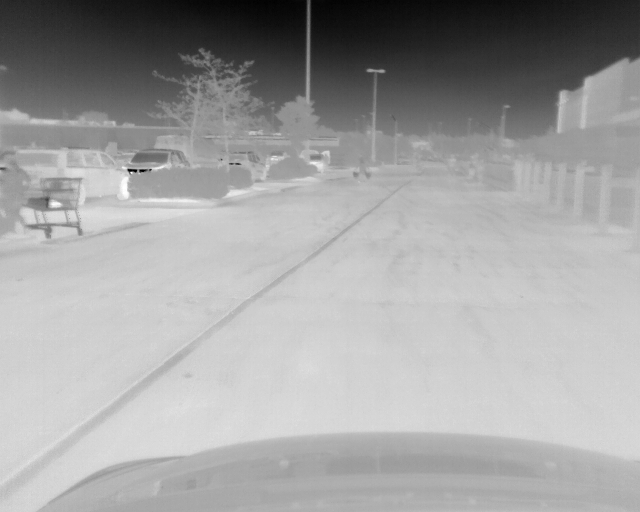car: (15, 148, 131, 201), (125, 146, 190, 176), (219, 152, 268, 183), (306, 152, 332, 174), (269, 151, 291, 165)
people: (1, 155, 29, 234)
